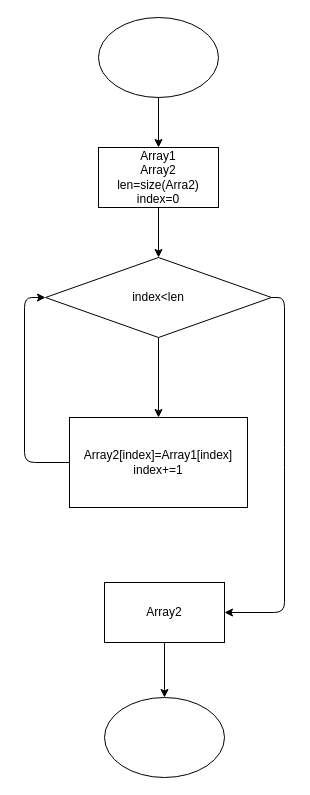
The diagram is 310 pixels wide and 795 high, and some of its shapes have lost their labels. Here are the shapes that lost their labels. From the top down, the box of each, then its label:
(98, 16, 218, 98): Начало
(104, 696, 224, 778): Конец
